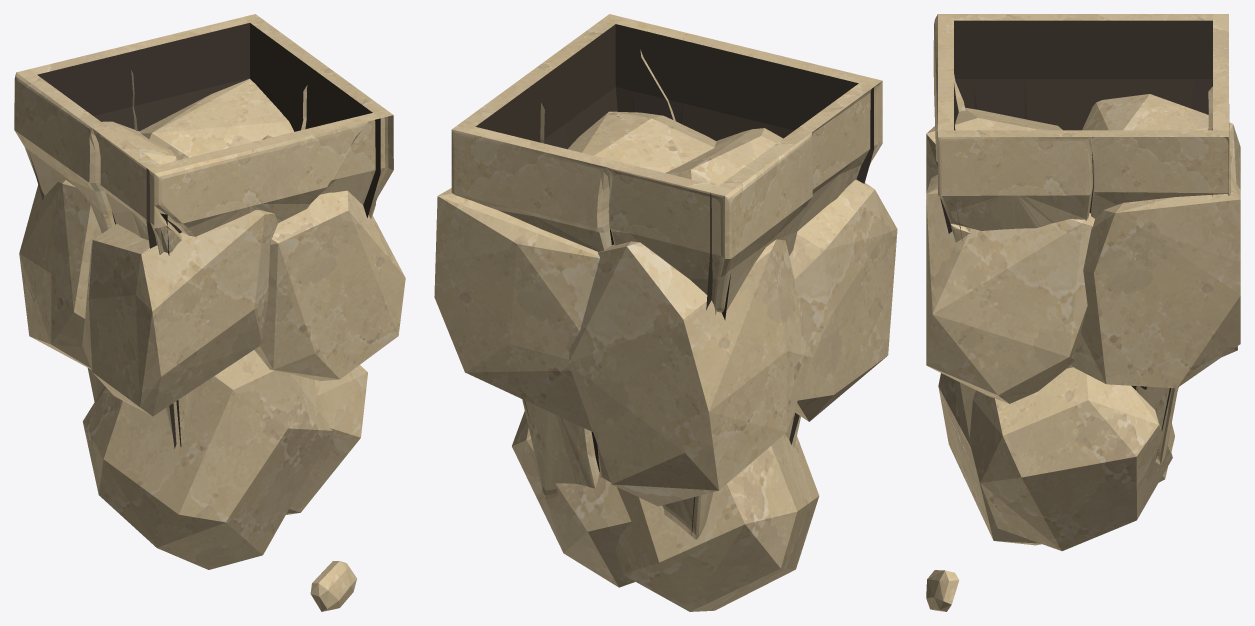
The model's file is ground_bottom_square_island_01.glb.
3 views of the same model, side by side, from view 1: azimuth 30°, elevation 25°; view 2: azimuth 150°, elevation 25°; view 3: azimuth 270°, elevation 25° (orthographic). The views are drawn at different scales.
Visible parts, largest first — view 1: GroundBottomSquareIsland01_Body; view 2: GroundBottomSquareIsland01_Body; view 3: GroundBottomSquareIsland01_Body.
Part boxes in pixels (x1,y1,x2,y2): GroundBottomSquareIsland01_Body: (14, 14, 405, 611); GroundBottomSquareIsland01_Body: (434, 14, 897, 611); GroundBottomSquareIsland01_Body: (926, 14, 1240, 611).
Size of the model in its own units: 1.08 by 1.91 by 1.08.
17 materials, 16 textured.
